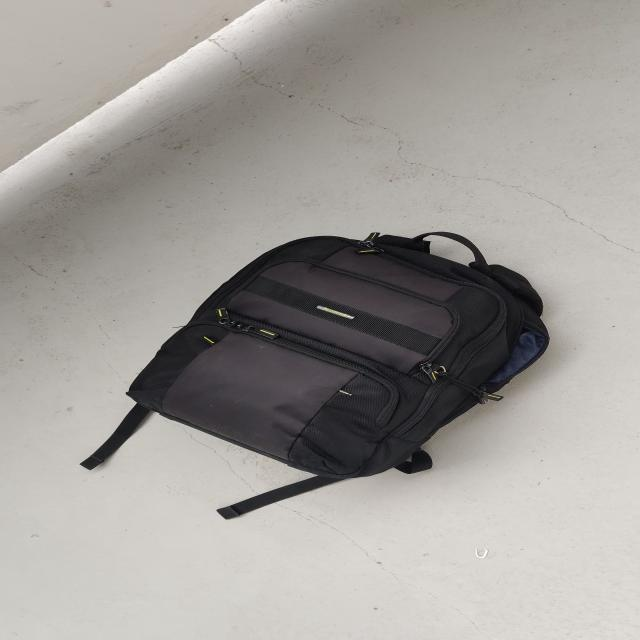backpack: (119, 221, 565, 488)
